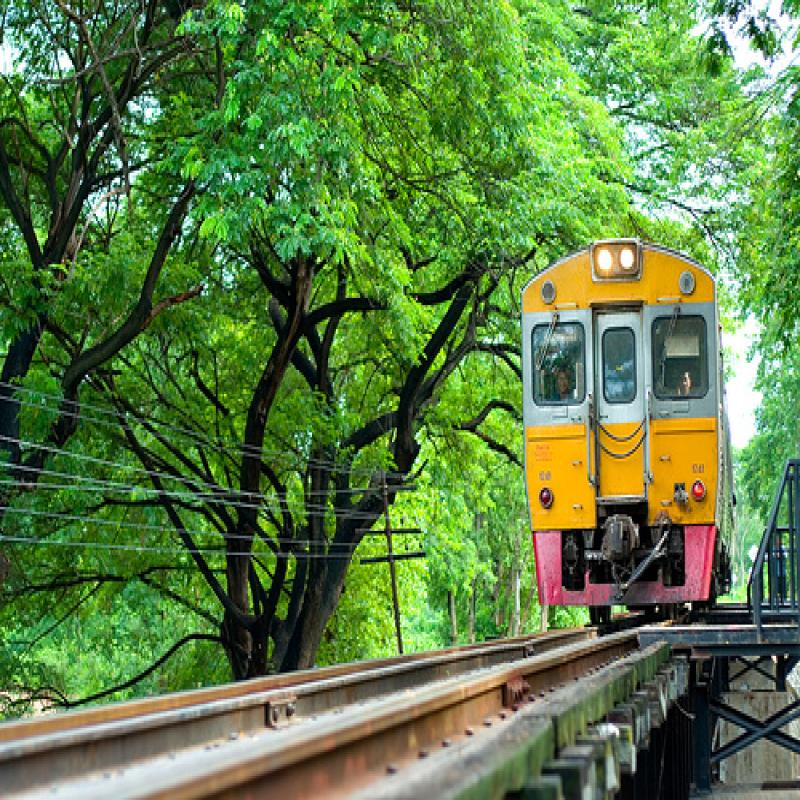train: (521, 239, 737, 628)
